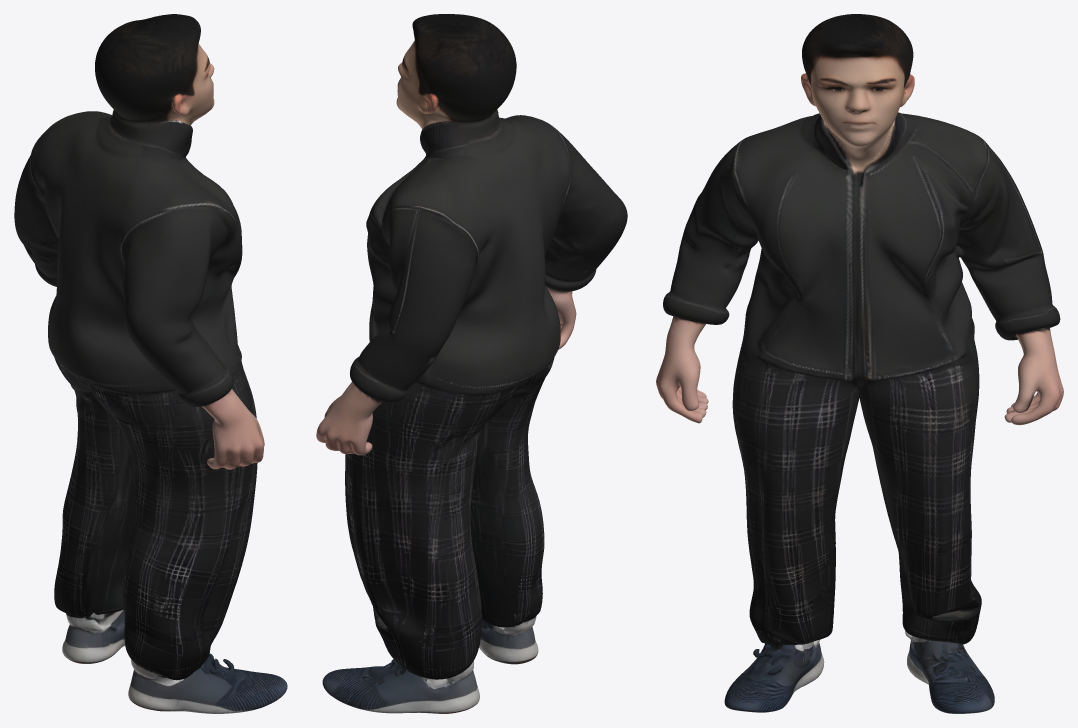
Rendered from tripo_pbr_model_f0d85eb9-4812-_781296bc_opt.glb.
3 renders of one model, left to right at view 1: azimuth 30°, elevation 25°; view 2: azimuth 150°, elevation 25°; view 3: azimuth 270°, elevation 25°, orthographic. The views are drawn at different scales.
Visible parts, largest first — view 1: tripo_node_f0d85eb9-4812-4123-9fad-c0a74adcee09; view 2: tripo_node_f0d85eb9-4812-4123-9fad-c0a74adcee09; view 3: tripo_node_f0d85eb9-4812-4123-9fad-c0a74adcee09.
Boxes of the visible parts, x1=… form: tripo_node_f0d85eb9-4812-4123-9fad-c0a74adcee09: x1=14, y1=14, x2=287, y2=713; tripo_node_f0d85eb9-4812-4123-9fad-c0a74adcee09: x1=316, y1=14, x2=627, y2=713; tripo_node_f0d85eb9-4812-4123-9fad-c0a74adcee09: x1=656, y1=14, x2=1063, y2=713.
Bounding box in the file's own units: 0.2831 × 1 × 0.5564.
Materials: 1 (1 with a texture image).
